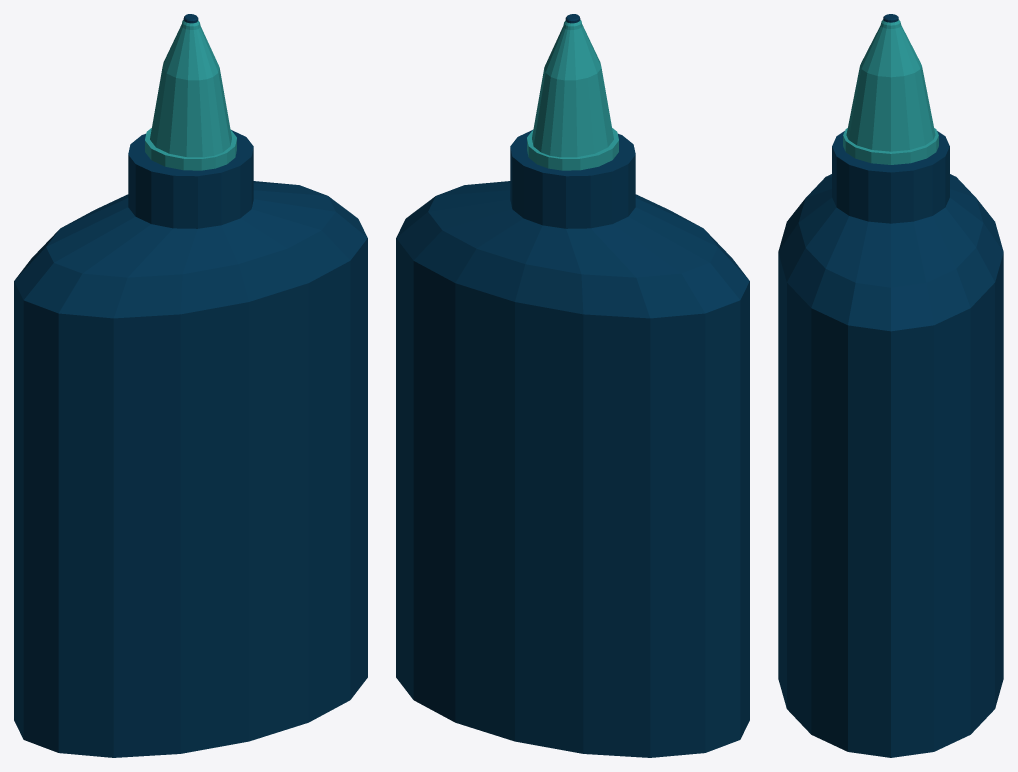
File: _ola.fbx
3 renders of one model, left to right at view 1: azimuth 30°, elevation 25°; view 2: azimuth 150°, elevation 25°; view 3: azimuth 270°, elevation 25°, orthographic. The views are drawn at different scales.
Parts seen in each view (by area): view 1: Cola; view 2: Cola; view 3: Cola.
Boxes of the visible parts, x1,y1,x2,y2 form: Cola: [14, 14, 367, 757]; Cola: [396, 14, 749, 757]; Cola: [778, 14, 1003, 757].
Size of the model in its own units: 200 by 390 by 120.
